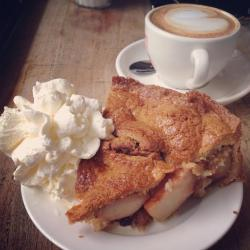apple_pie: (82, 74, 248, 245)
chantilly: (1, 77, 111, 201)
